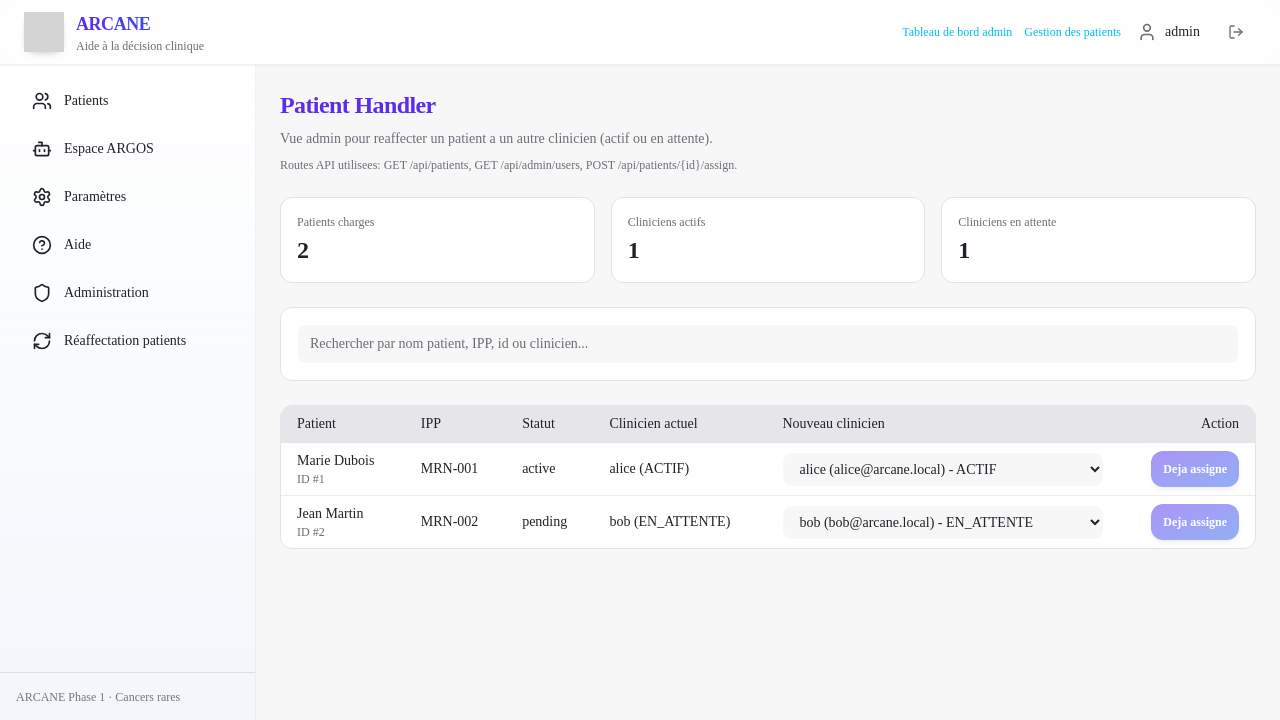
Test case: AdminPatientHandler flow › reaffecte un patient vers un autre clinicien
Expected: the text "Jean Martin" is shown, [297,506,364,521]
Select "alice (alice@arcane.local) - ACTIF" in the dropdown in the row of "Jean Martin" at (943, 522), box [782,504,1104,540]
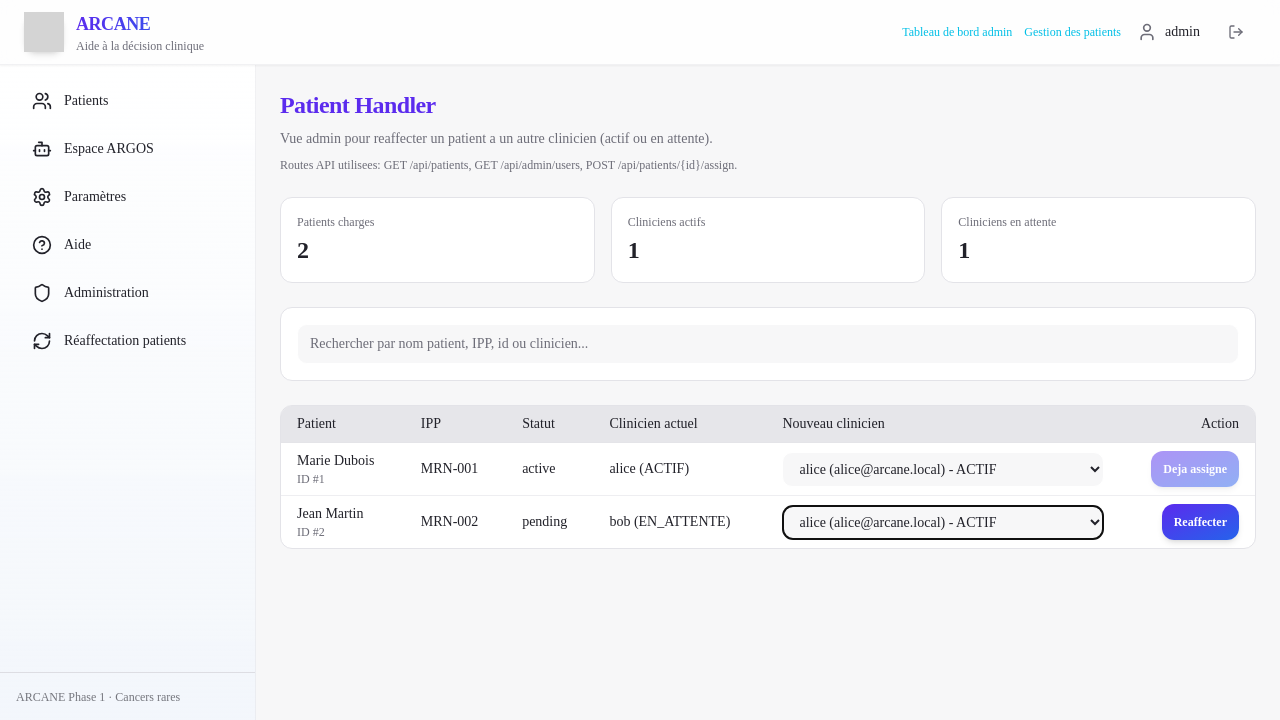
Click the button "Reaffecter" at (1200, 522), box [1162,504,1239,540]
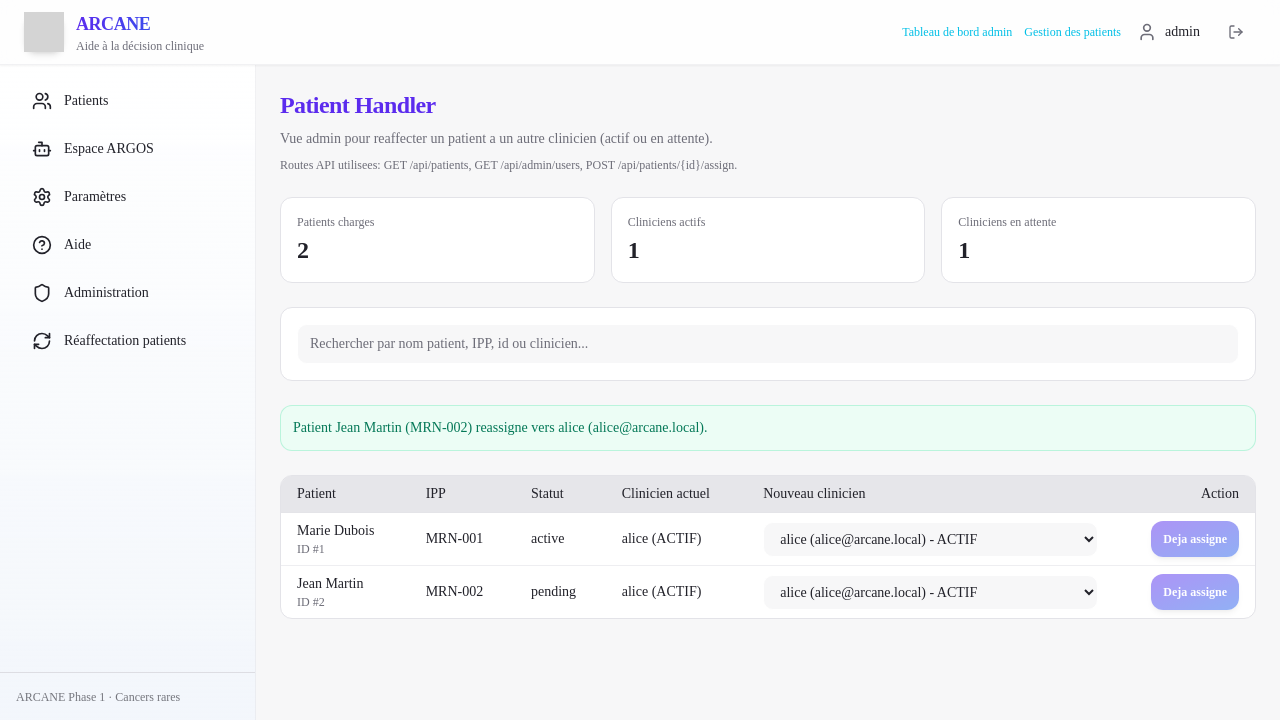
Result: the text "Jean Martin (MRN-002) reassigne vers alice" is shown at [293,420,708,435]
